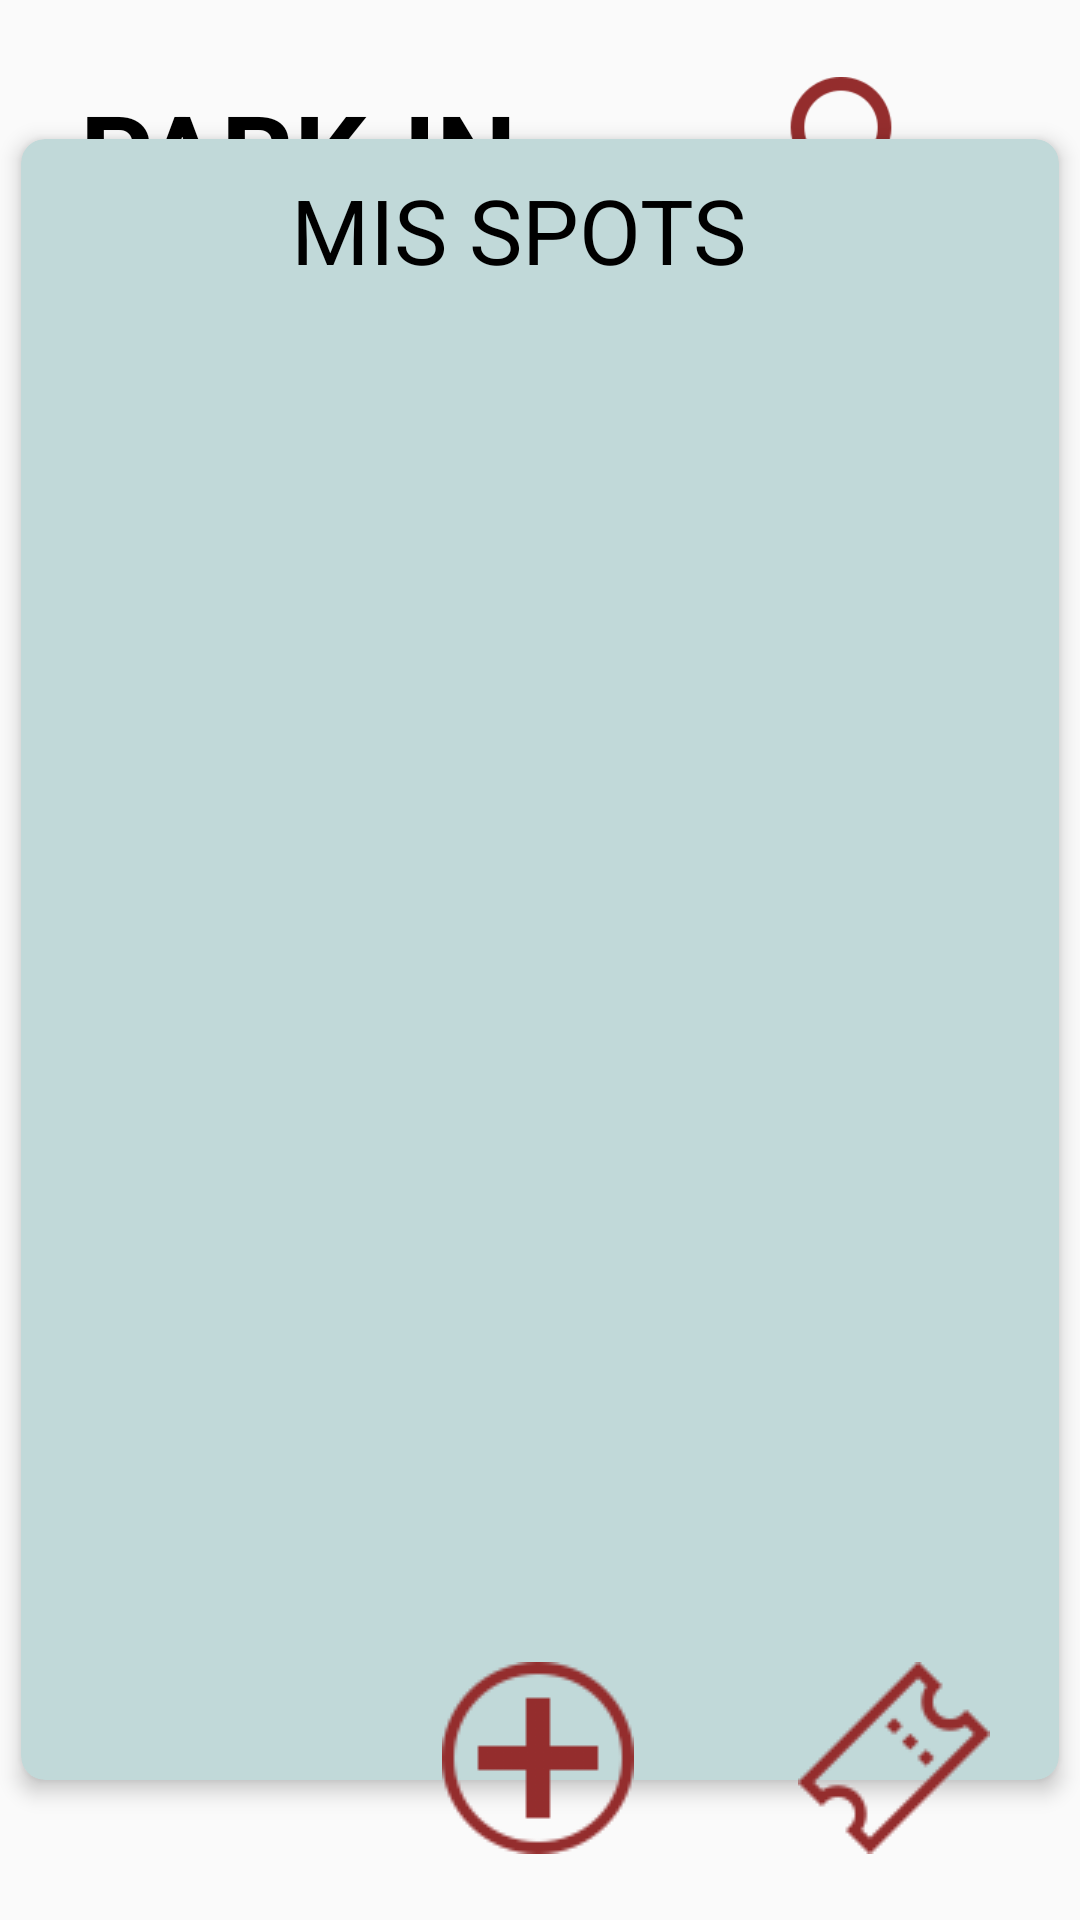

Point at icon controls on the screen. Image size 1080px x 1920px, points as (x,y).
circuloplus: (538,1758)
entradas: (894,1758)
